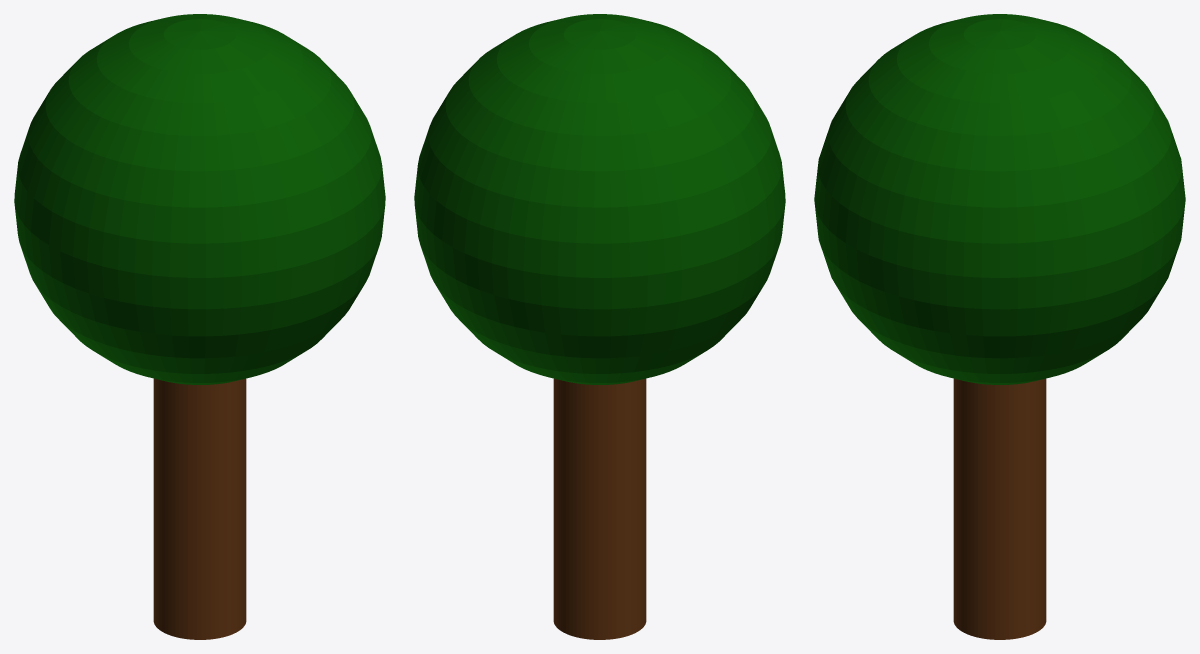
The model's file is Tree_HighPoly.fbx.
The picture shows the model from 3 angles, left to right: view 1: azimuth 30°, elevation 25°; view 2: azimuth 150°, elevation 25°; view 3: azimuth 270°, elevation 25°; orthographic projection.
Visible parts, largest first — view 1: Leaves, Trunk; view 2: Leaves, Trunk; view 3: Leaves, Trunk.
Boxes of the visible parts, x1,y1,x2,y2 form: Leaves: (14,14,385,384); Trunk: (153,378,246,639); Leaves: (414,14,785,384); Trunk: (553,378,646,639); Leaves: (814,14,1185,384); Trunk: (953,378,1046,639).
Bounding box in the file's own units: 800 × 1400 × 800.
